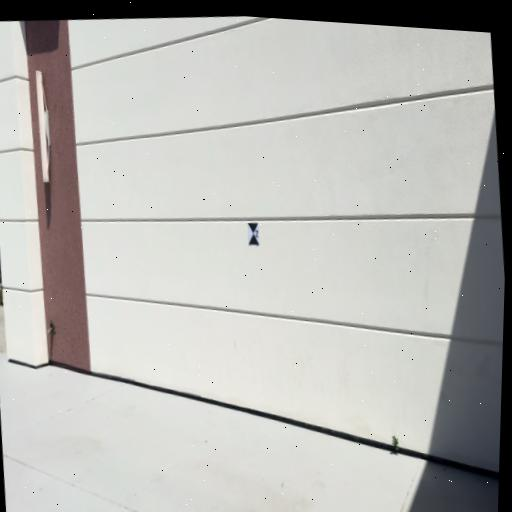target7: (247, 221, 260, 246)
